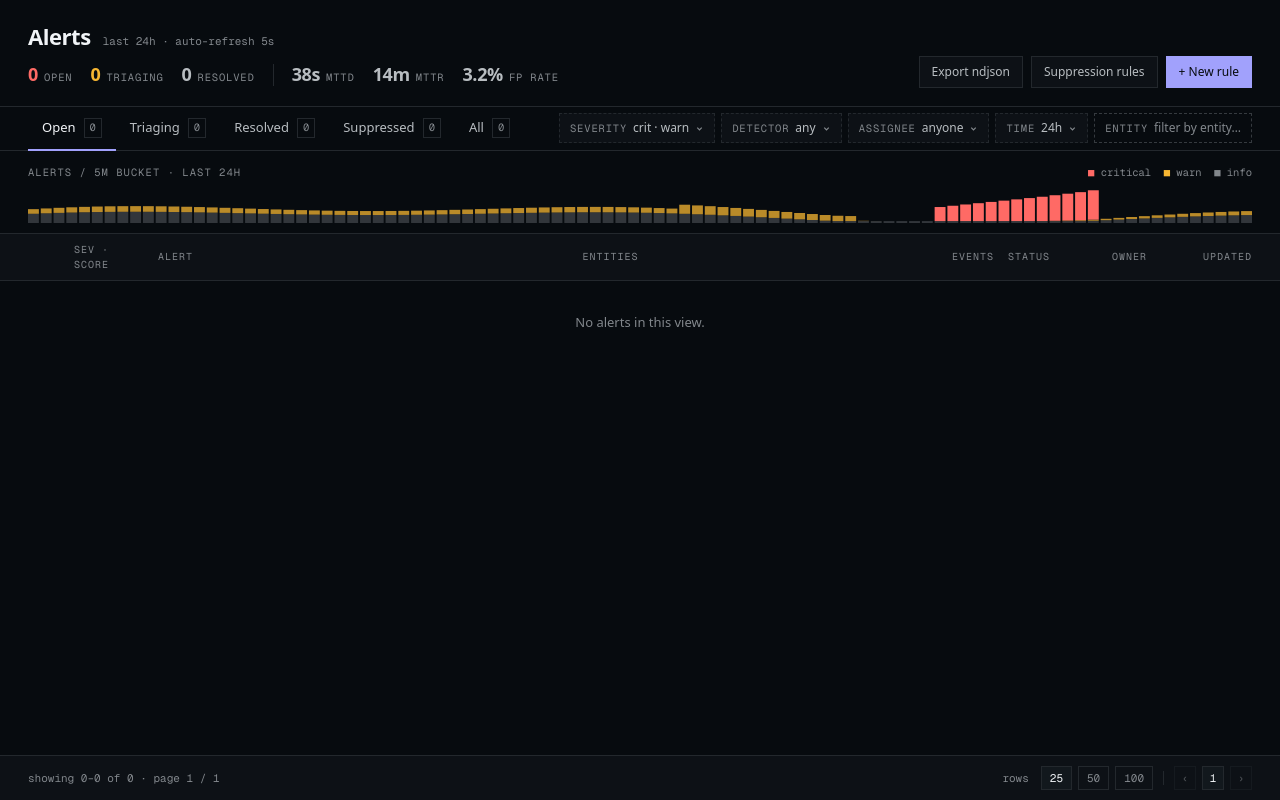
Test: AlertFeed integration › buffers WS messages until warm-up resolves, then replays them (S-194 AC-3)
Click the tab "All 0": (490, 129) [455, 107, 524, 151]
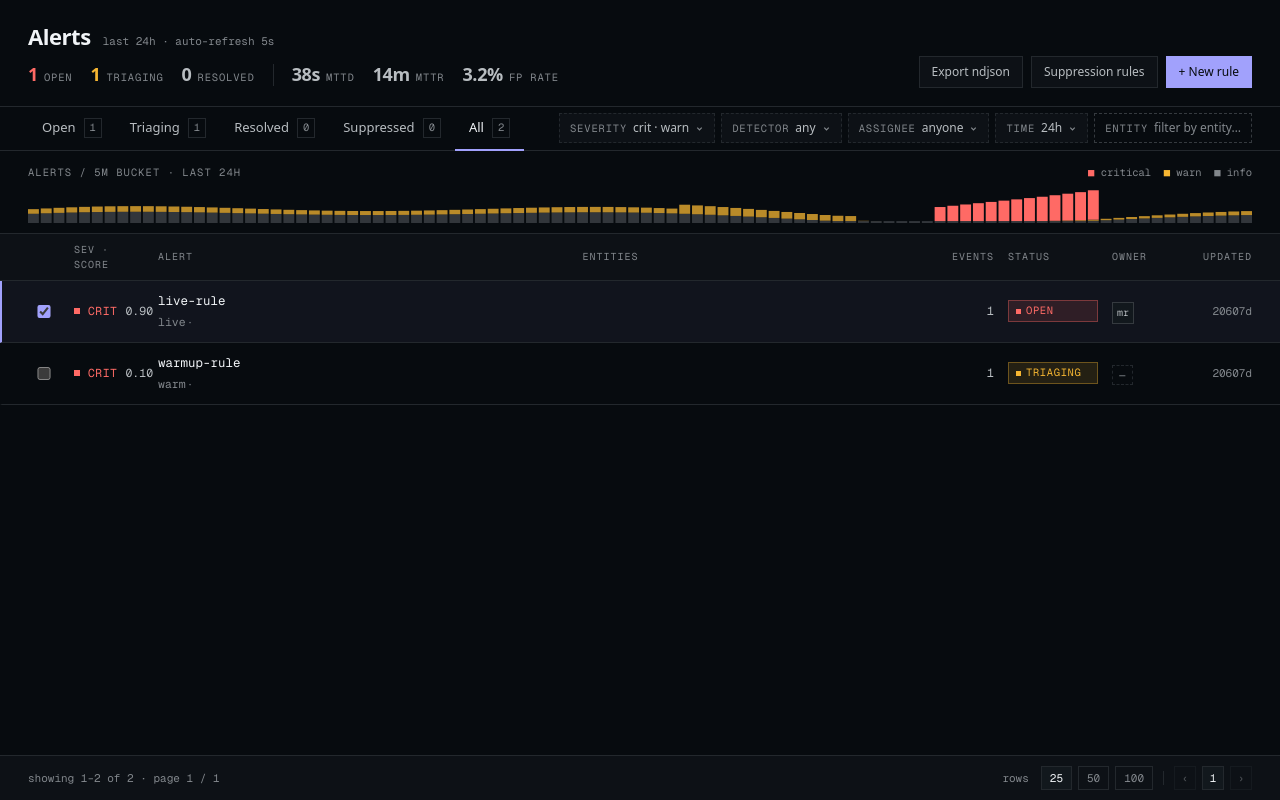
Expected: the text "live-rule" is shown, [158, 292, 226, 310]
Expected: the text "warmup-rule" is shown, [158, 354, 240, 372]
